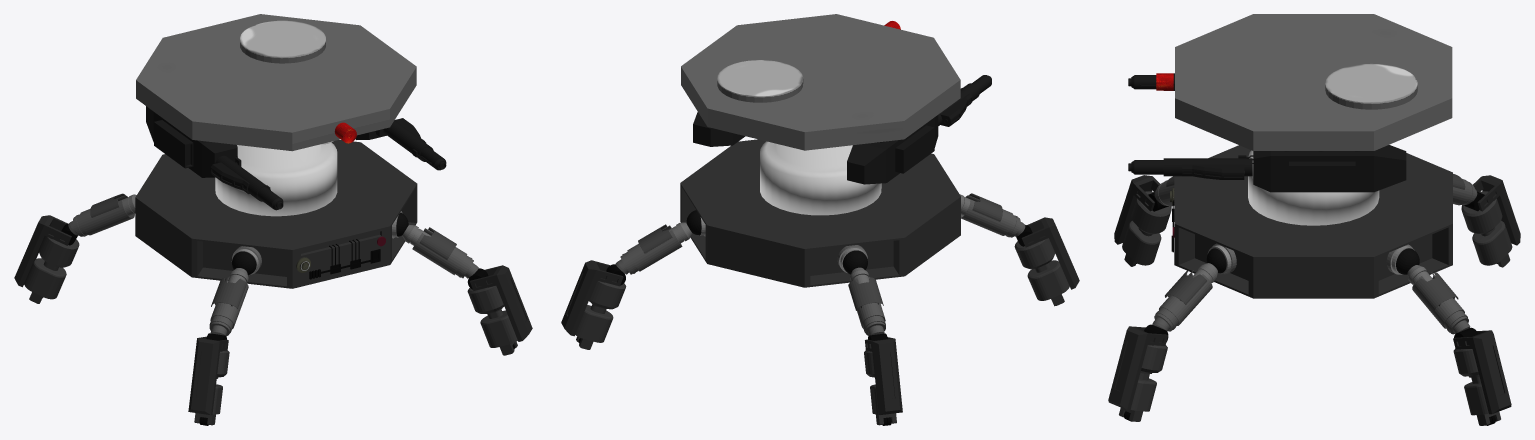
The model's file is EnemyTurret.fbx.
3 renders of one model, left to right at view 1: azimuth 30°, elevation 25°; view 2: azimuth 150°, elevation 25°; view 3: azimuth 270°, elevation 25°, orthographic. The views are drawn at different scales.
Parts seen in each view (by area): view 1: Cube.013, Main Body, Neck, Cube, Cylinder.009, Cube.001, Cylinder.010, Cube.003, Cube.014, Cylinder.042, Cylinder.012, Cylinder.003 (+4 smaller); view 2: Cube.013, Main Body, Neck, Cube, Cylinder.001, Cube.014, Cylinder.047, Cube.018, Cube.001, Cylinder.049, Cylinder.003, Cylinder.042 (+3 smaller); view 3: Cube.013, Main Body, Cube, Neck, Cube.018, Cube.003, Cylinder.009, Cylinder.001, Cube.014, Cylinder.010, Cube.001, Cylinder.047 (+7 smaller).
Boxes of the visible parts, x1,y1,x2,y2 form: Cube.013: (136, 14, 416, 151); Main Body: (135, 140, 417, 288); Neck: (215, 142, 337, 216); Cube: (146, 106, 446, 210); Cylinder.009: (24, 236, 79, 299); Cube.001: (188, 336, 228, 415); Cylinder.010: (467, 286, 517, 347); Cube.003: (470, 265, 532, 341); Cube.014: (14, 215, 71, 287); Cylinder.042: (68, 195, 134, 236); Cylinder.012: (412, 228, 478, 278); Cylinder.003: (209, 276, 248, 336); Cube.013: (681, 14, 960, 150); Main Body: (680, 139, 960, 287); Neck: (760, 141, 881, 215); Cube: (693, 75, 991, 184); Cylinder.001: (1014, 238, 1069, 300); Cube.014: (865, 337, 902, 414); Cylinder.047: (575, 280, 626, 342); Cube.018: (561, 260, 623, 336); Cube.001: (1021, 217, 1079, 289); Cylinder.049: (615, 225, 682, 274); Cylinder.003: (961, 195, 1025, 237); Cylinder.042: (853, 276, 885, 335); Cube.013: (1175, 14, 1452, 150); Main Body: (1174, 145, 1452, 298); Cube: (1128, 73, 1406, 192); Neck: (1248, 150, 1379, 225); Cube.018: (1453, 330, 1511, 414); Cube.003: (1108, 326, 1168, 410); Cylinder.009: (1461, 191, 1512, 265); Cylinder.001: (1122, 191, 1171, 265); Cube.014: (1473, 175, 1520, 245); Cylinder.010: (1130, 345, 1167, 411); Cube.001: (1114, 175, 1159, 244); Cylinder.047: (1453, 348, 1488, 415).
Size of the model in its own units: 927 by 664 by 892.
